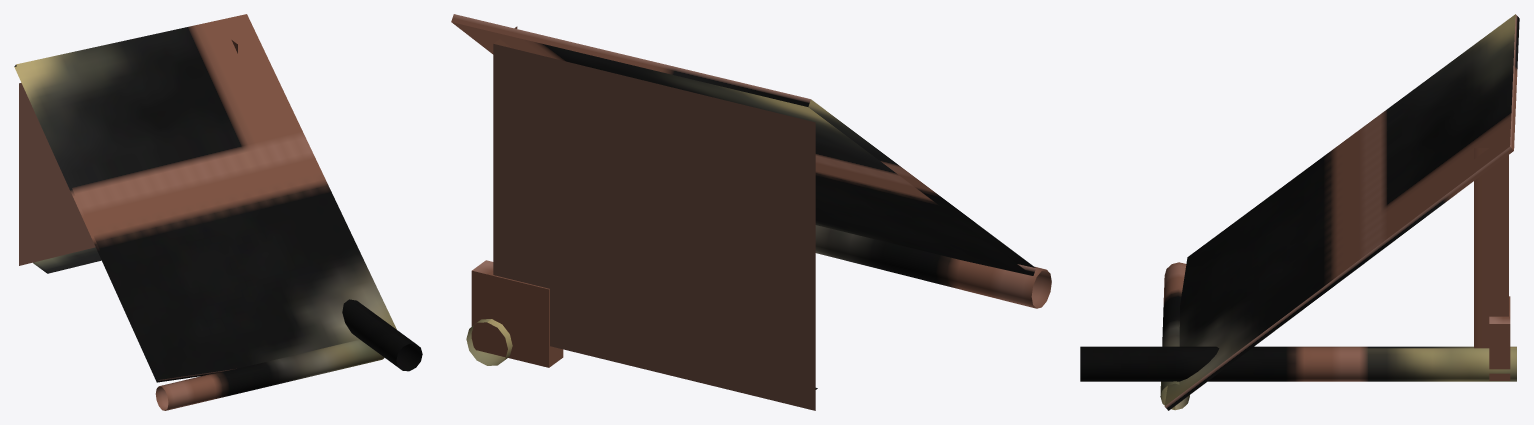
File: section-1.obj
3 renders of one model, left to right at view 1: azimuth 30°, elevation 25°; view 2: azimuth 150°, elevation 25°; view 3: azimuth 270°, elevation 25°, orthographic. The views are drawn at different scales.
Bounding box in the file's own units: 1 × 0.9706 × 1.41.
